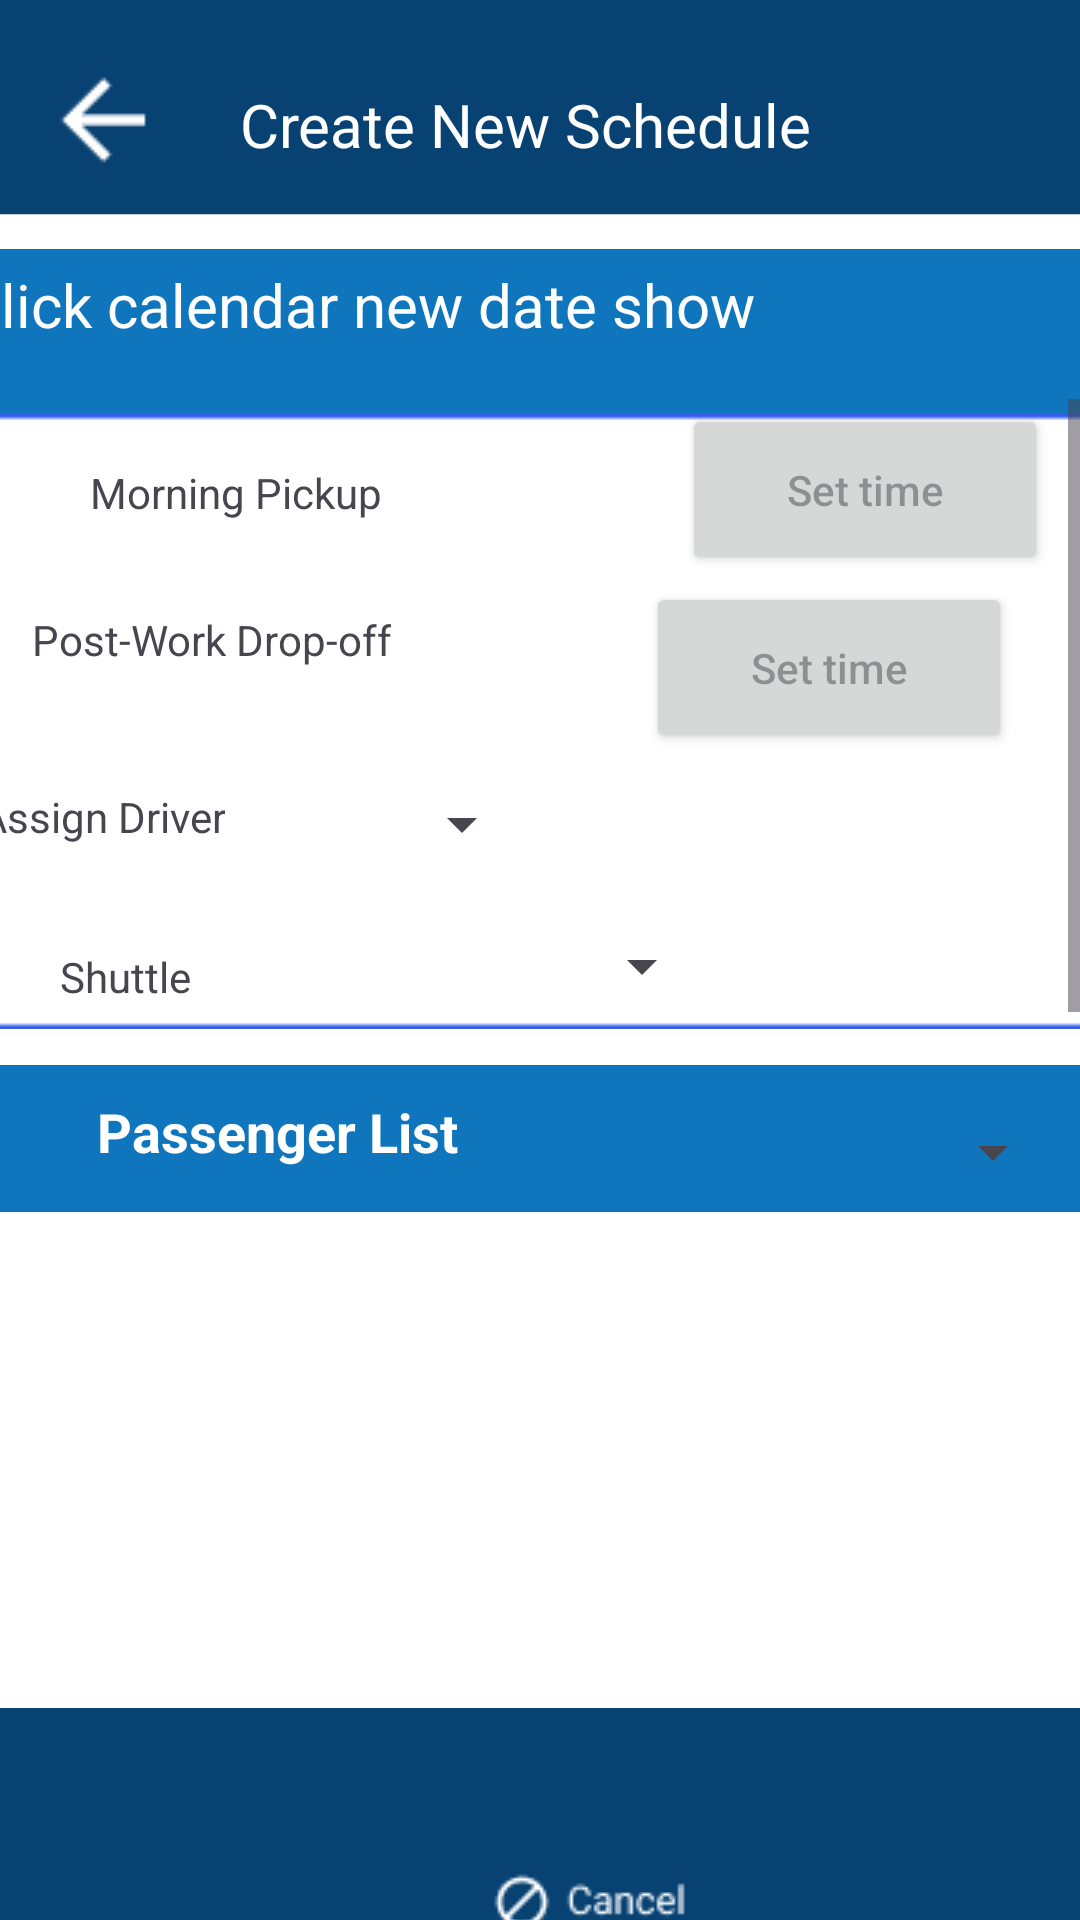

Screen size 1080w x 1920h. Icon name, then its box in pixels as region(x1, y1, x2, y2):
backktome: region(61, 77, 146, 163)
